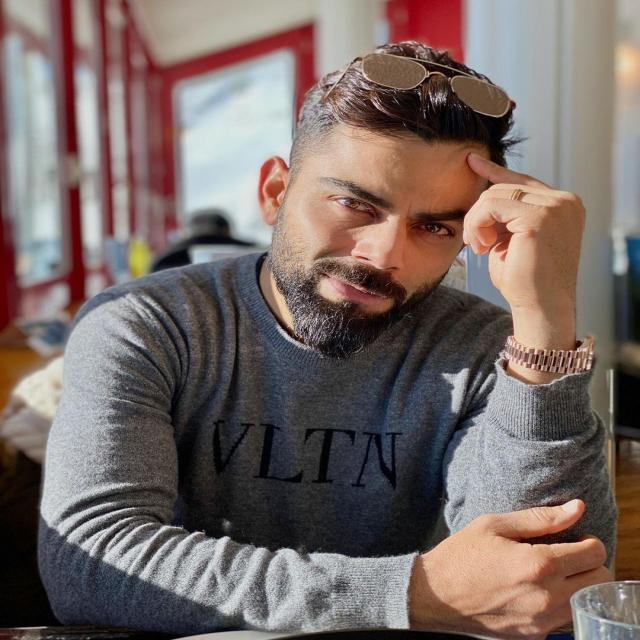beard: (267, 228, 447, 347)
hair: (263, 75, 524, 212)
